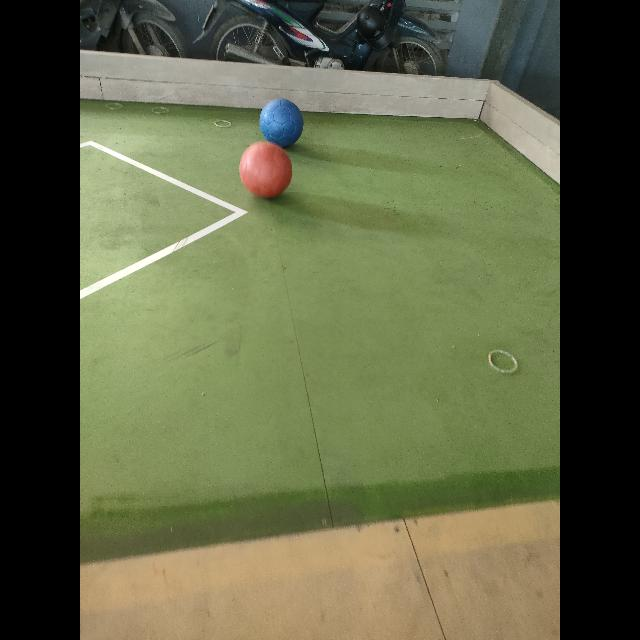B: (260, 99, 304, 148)
R: (239, 142, 292, 198)
